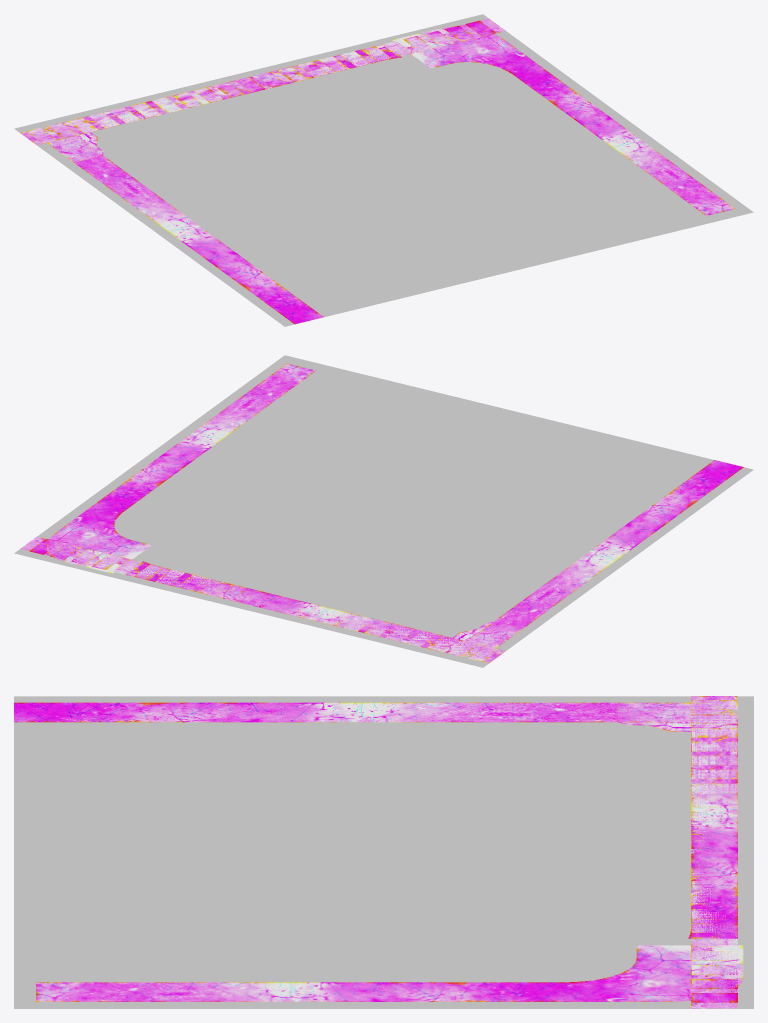
Rendered from floor_06.fbx.
The picture shows the model from 3 angles, top to bottom: view 1: azimuth 30°, elevation 25°; view 2: azimuth 150°, elevation 25°; view 3: azimuth 270°, elevation 25°; orthographic projection. The views are drawn at different scales.
Visible parts, largest first — view 1: Plane.375, Plane.378, Plane.377, Plane.389, Plane.388, Plane.386, Plane.390; view 2: Plane.375, Plane.378, Plane.377, Plane.386, Plane.389, Plane.390, Plane.388; view 3: Plane.375, Plane.378, Plane.377, Plane.386, Plane.389, Plane.390, Plane.388, Plane.384.
Boxes of the visible parts, left/top/right/bottom form: Plane.375: left=14, top=14, right=753, bottom=326; Plane.378: left=392, top=26, right=735, bottom=215; Plane.377: left=53, top=140, right=323, bottom=324; Plane.389: left=26, top=20, right=496, bottom=143; Plane.388: left=20, top=18, right=505, bottom=145; Plane.386: left=83, top=45, right=401, bottom=132; Plane.390: left=45, top=127, right=103, bottom=162; Plane.375: left=14, top=355, right=753, bottom=667; Plane.378: left=46, top=363, right=315, bottom=573; Plane.377: left=473, top=460, right=743, bottom=643; Plane.386: left=126, top=561, right=455, bottom=648; Plane.389: left=29, top=539, right=499, bottom=661; Plane.390: left=436, top=622, right=522, bottom=656; Plane.388: left=20, top=536, right=505, bottom=663; Plane.375: left=14, top=696, right=753, bottom=1008; Plane.378: left=36, top=945, right=743, bottom=1001; Plane.377: left=14, top=702, right=675, bottom=722; Plane.386: left=688, top=729, right=737, bottom=938; Plane.389: left=691, top=700, right=737, bottom=1002; Plane.390: left=617, top=702, right=737, bottom=731; Plane.388: left=691, top=696, right=737, bottom=1008; Plane.384: left=675, top=702, right=737, bottom=728.
Bounding box in the file's own units: 4 × 0.001 × 4.
